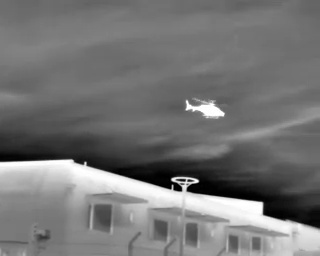HELICOPTER: (183, 91, 232, 125)
